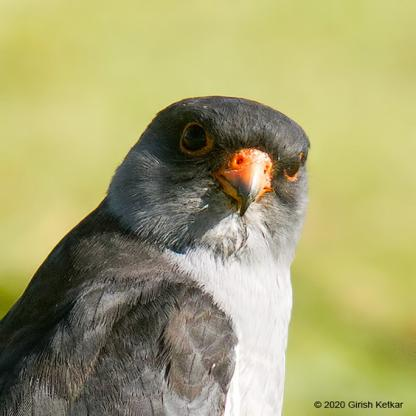Burung: (0, 94, 313, 414)
